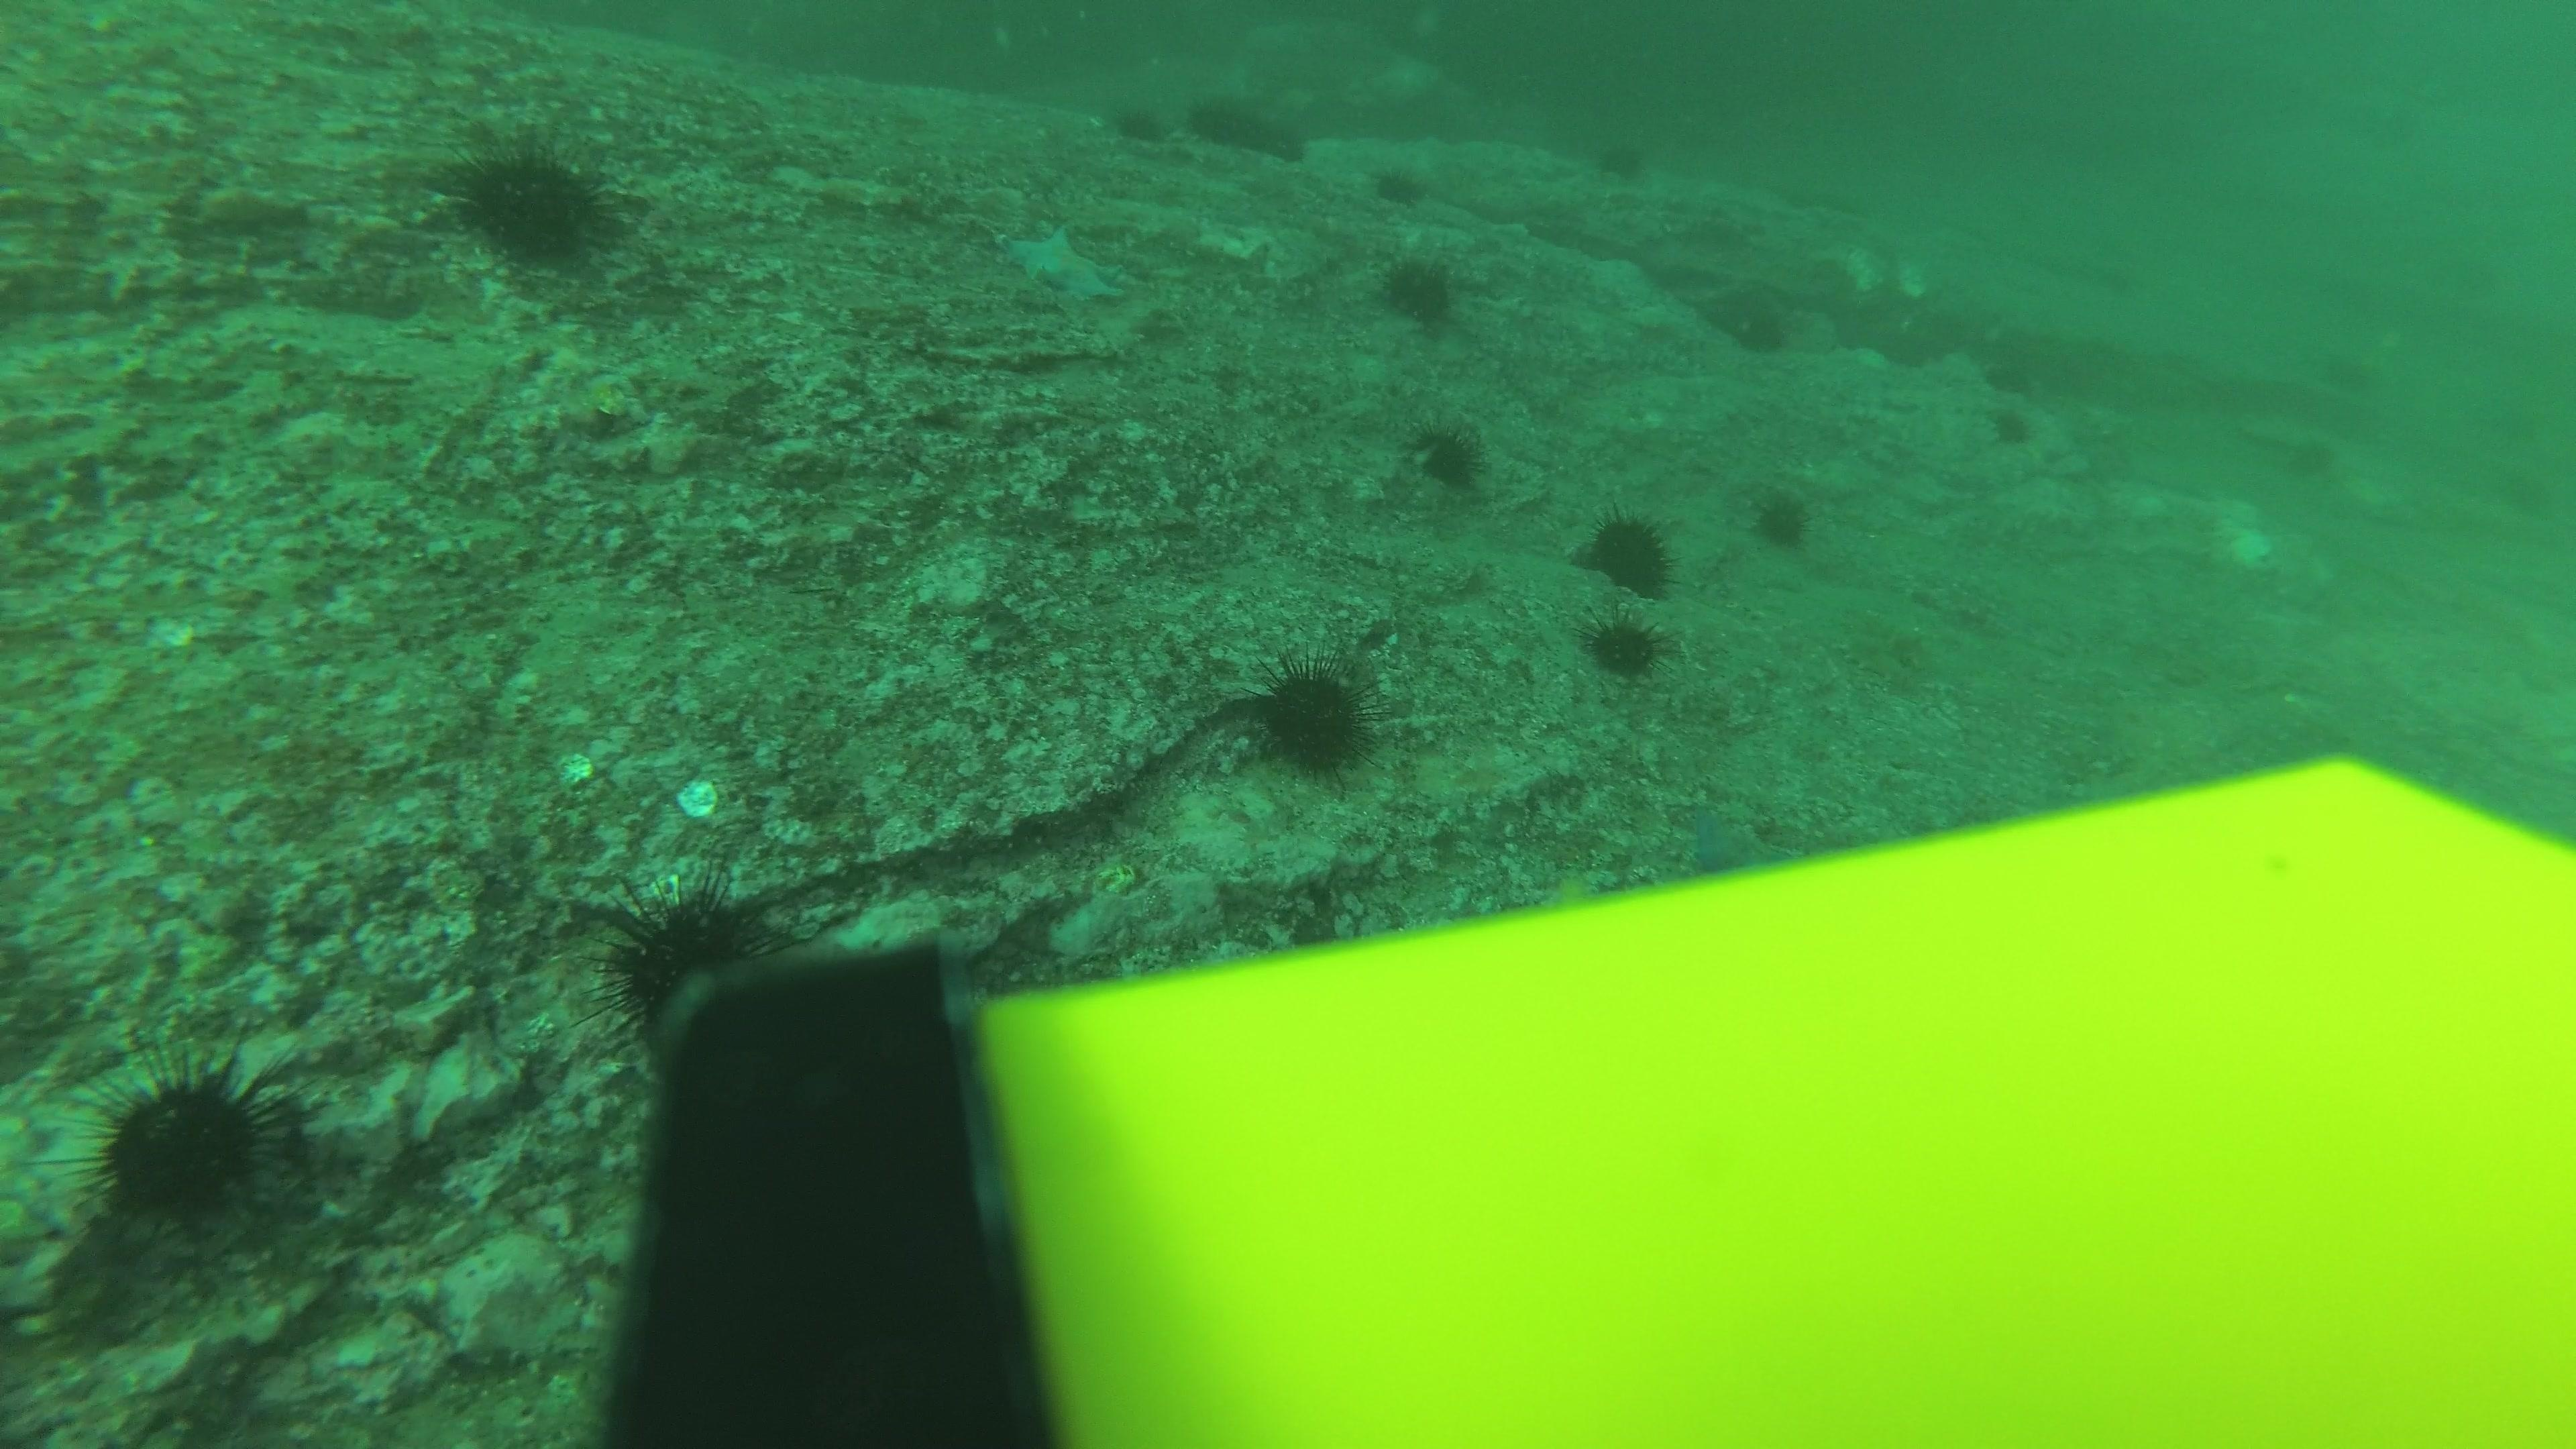echinus: (74, 1051, 290, 1233), (591, 874, 784, 1044), (451, 138, 619, 267), (1246, 653, 1380, 780), (1578, 506, 1675, 596), (1185, 87, 1302, 161), (1707, 280, 1796, 356), (1376, 248, 1461, 326), (1410, 416, 1488, 492), (1583, 610, 1665, 679), (2258, 428, 2339, 497), (2304, 333, 2385, 402), (1748, 483, 1817, 552), (2496, 462, 2565, 517), (1591, 131, 1652, 184), (1368, 159, 1426, 209), (1108, 97, 1166, 147), (1982, 400, 2038, 449)
starfish: (998, 218, 1132, 306), (1674, 800, 1775, 872)
